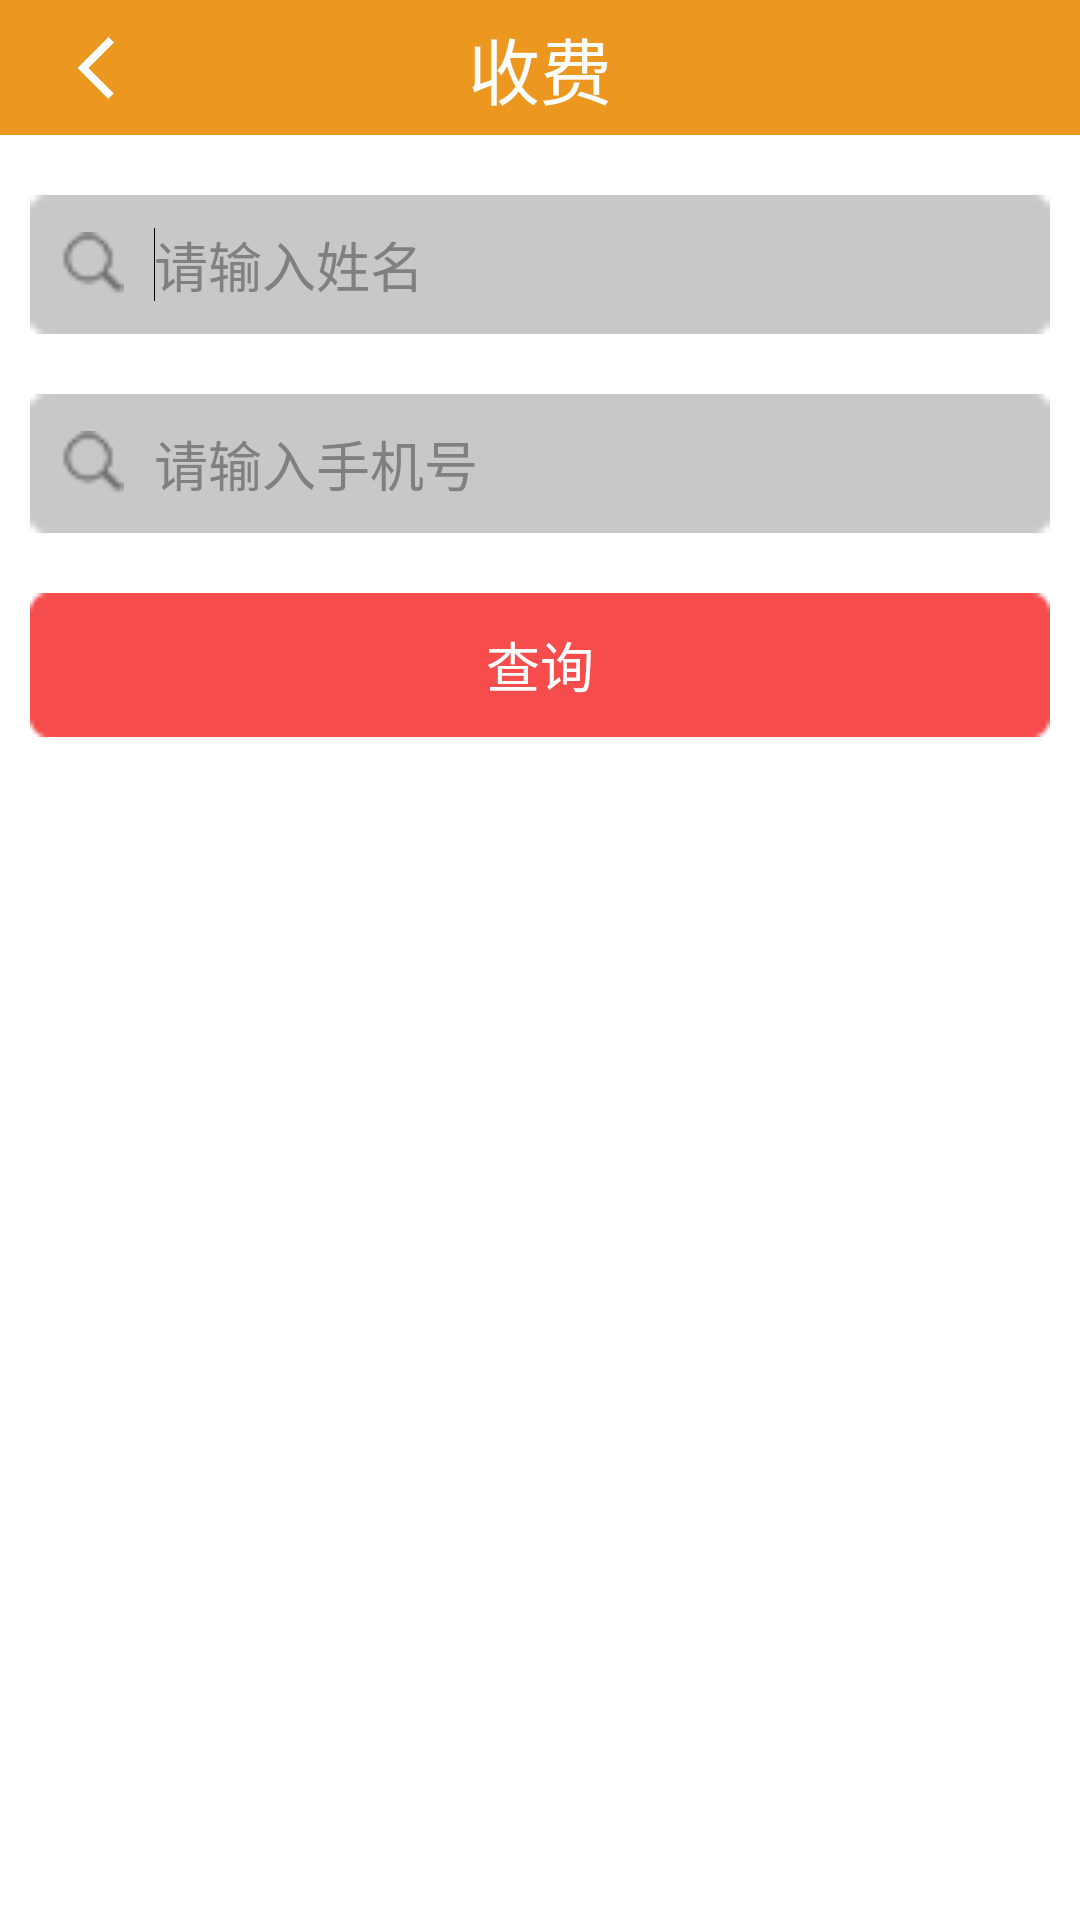

Named icons in this screenshot (1080 × 1920) and their centers, (x=x, y=y):
back: (x=96, y=68)
